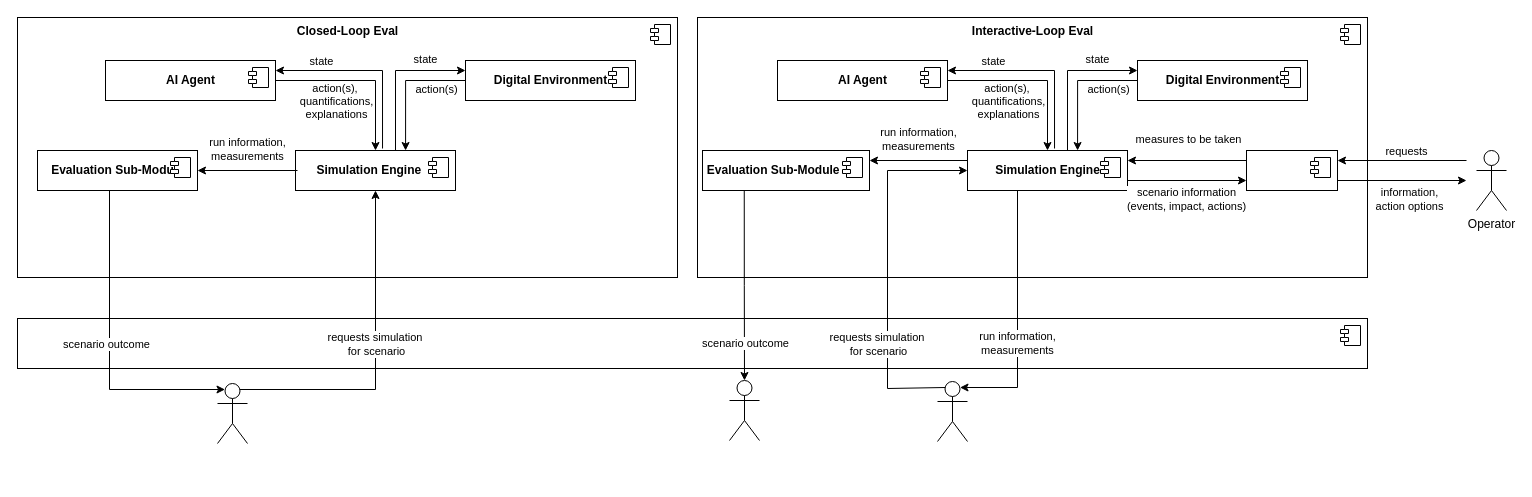
Image size: 1532x497. Some labels were removed from this diagram. Each missing label, with the centre of its shape:
"Algorithmic Researcher" goes at [232,413].
"Domain Expert Evaluator" goes at [744,410].
"FA Benchmark Web+Backend" goes at [692,343].
"Human-in-the-loop Researcher" goes at [952,411].
"UI" goes at [1292,170].
